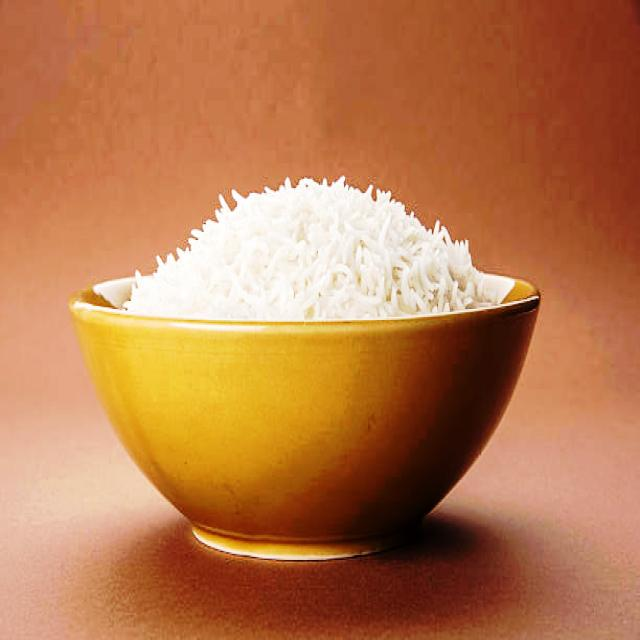rice: (122, 174, 488, 319)
